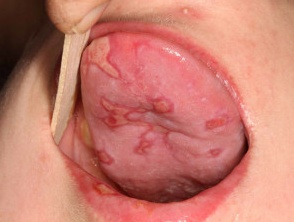SJS-TEN: (30, 0, 286, 222)
